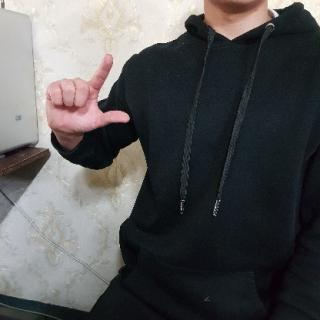LAAM: (42, 53, 131, 137)
